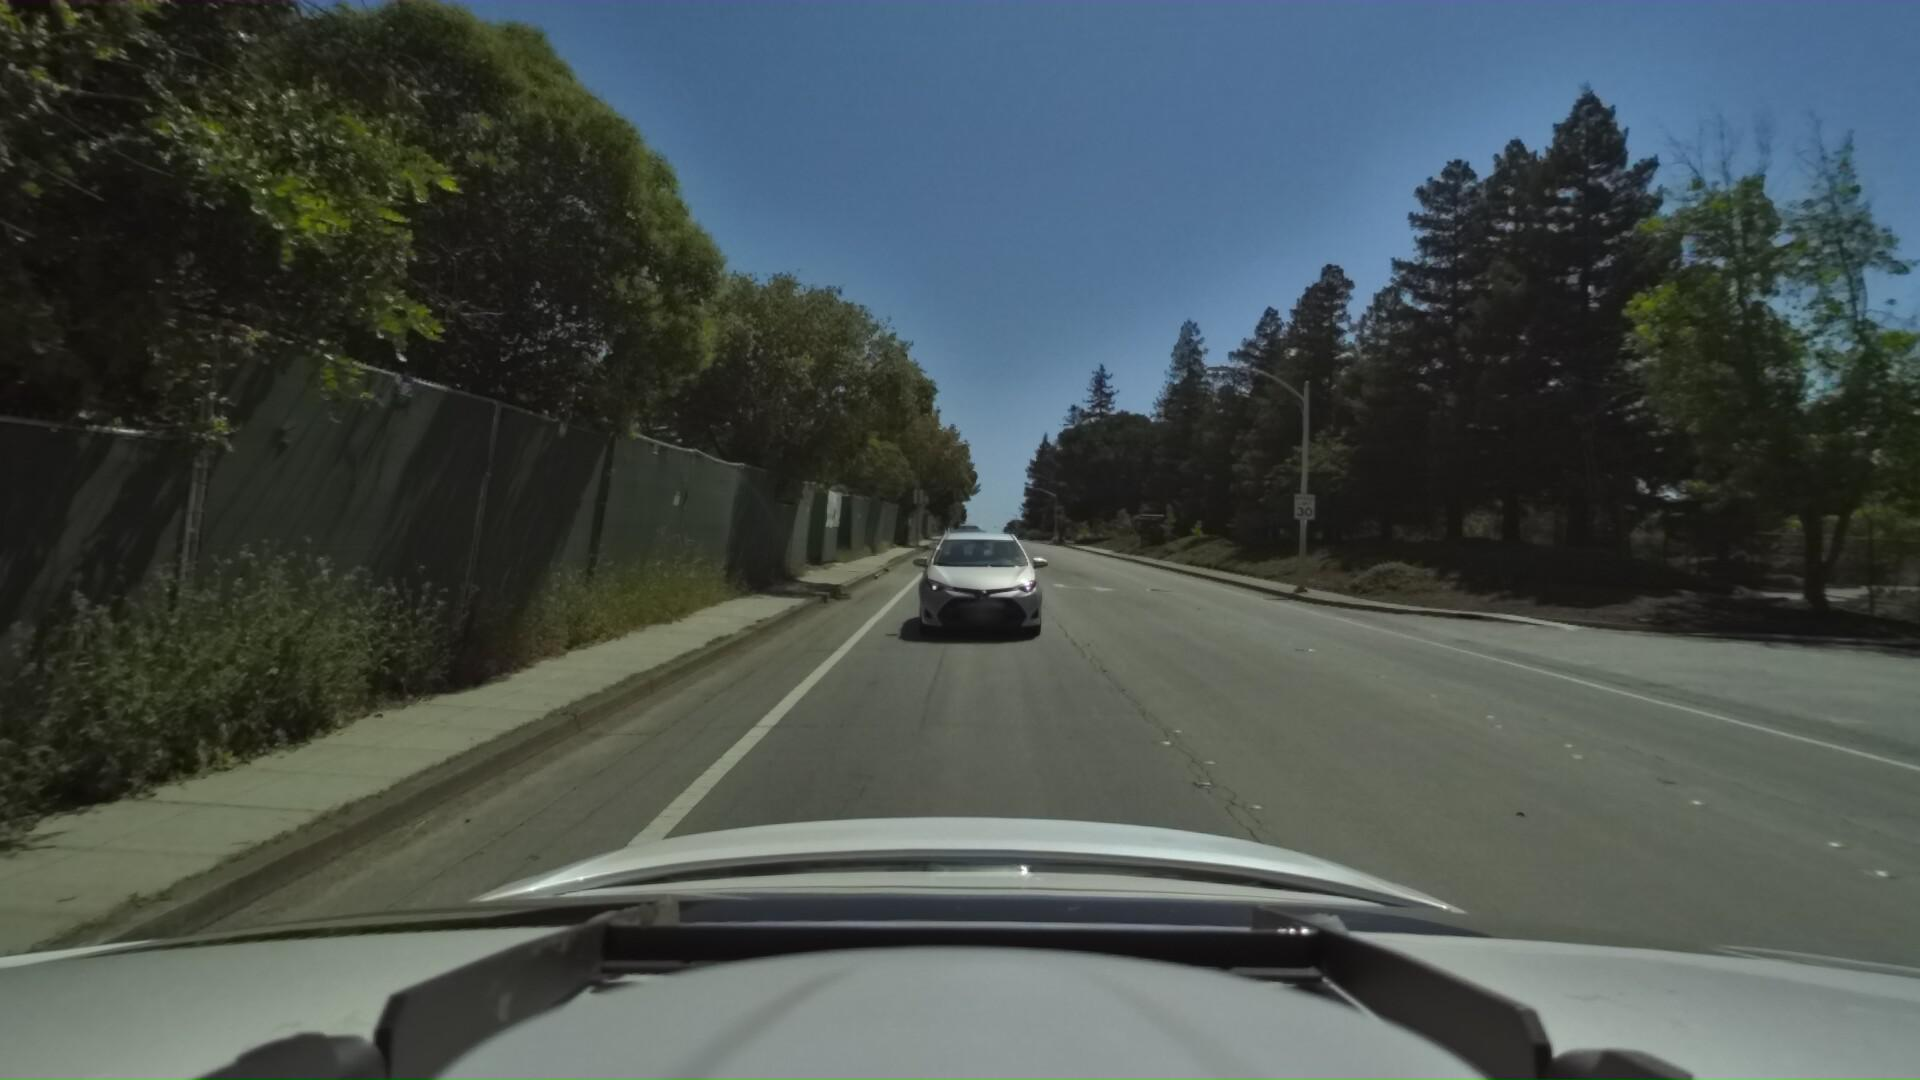car: (895, 508, 1055, 651), (931, 518, 990, 574)
